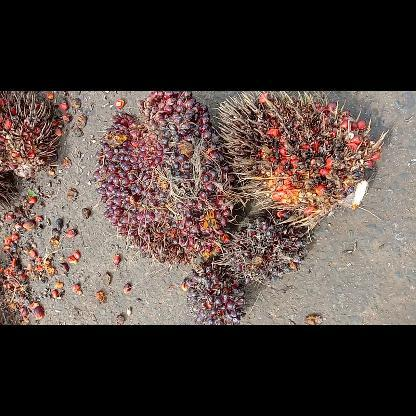TBS abnormal: (219, 208, 313, 282), (184, 262, 249, 324)
TBS masak: (92, 91, 240, 264)
Terlalu masak: (216, 92, 382, 230)
